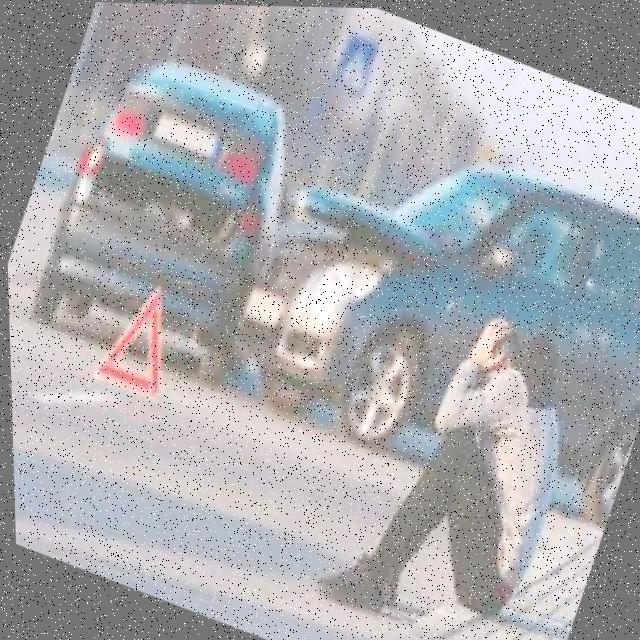Car Accident Detector - v4 Generation1 Exported: (15, 0, 640, 531)
